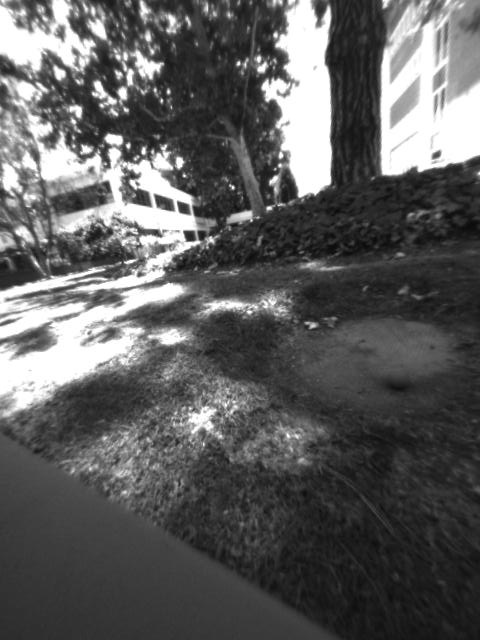dogtoy: (374, 356, 424, 396)
